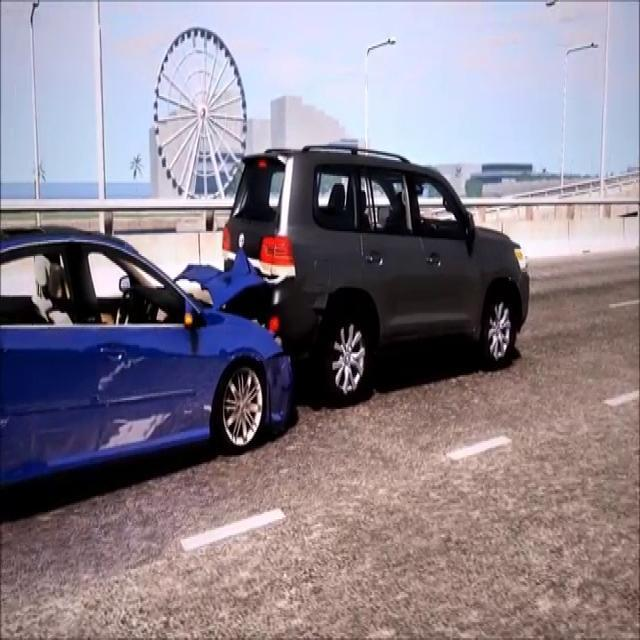moderate: (0, 128, 539, 490)
